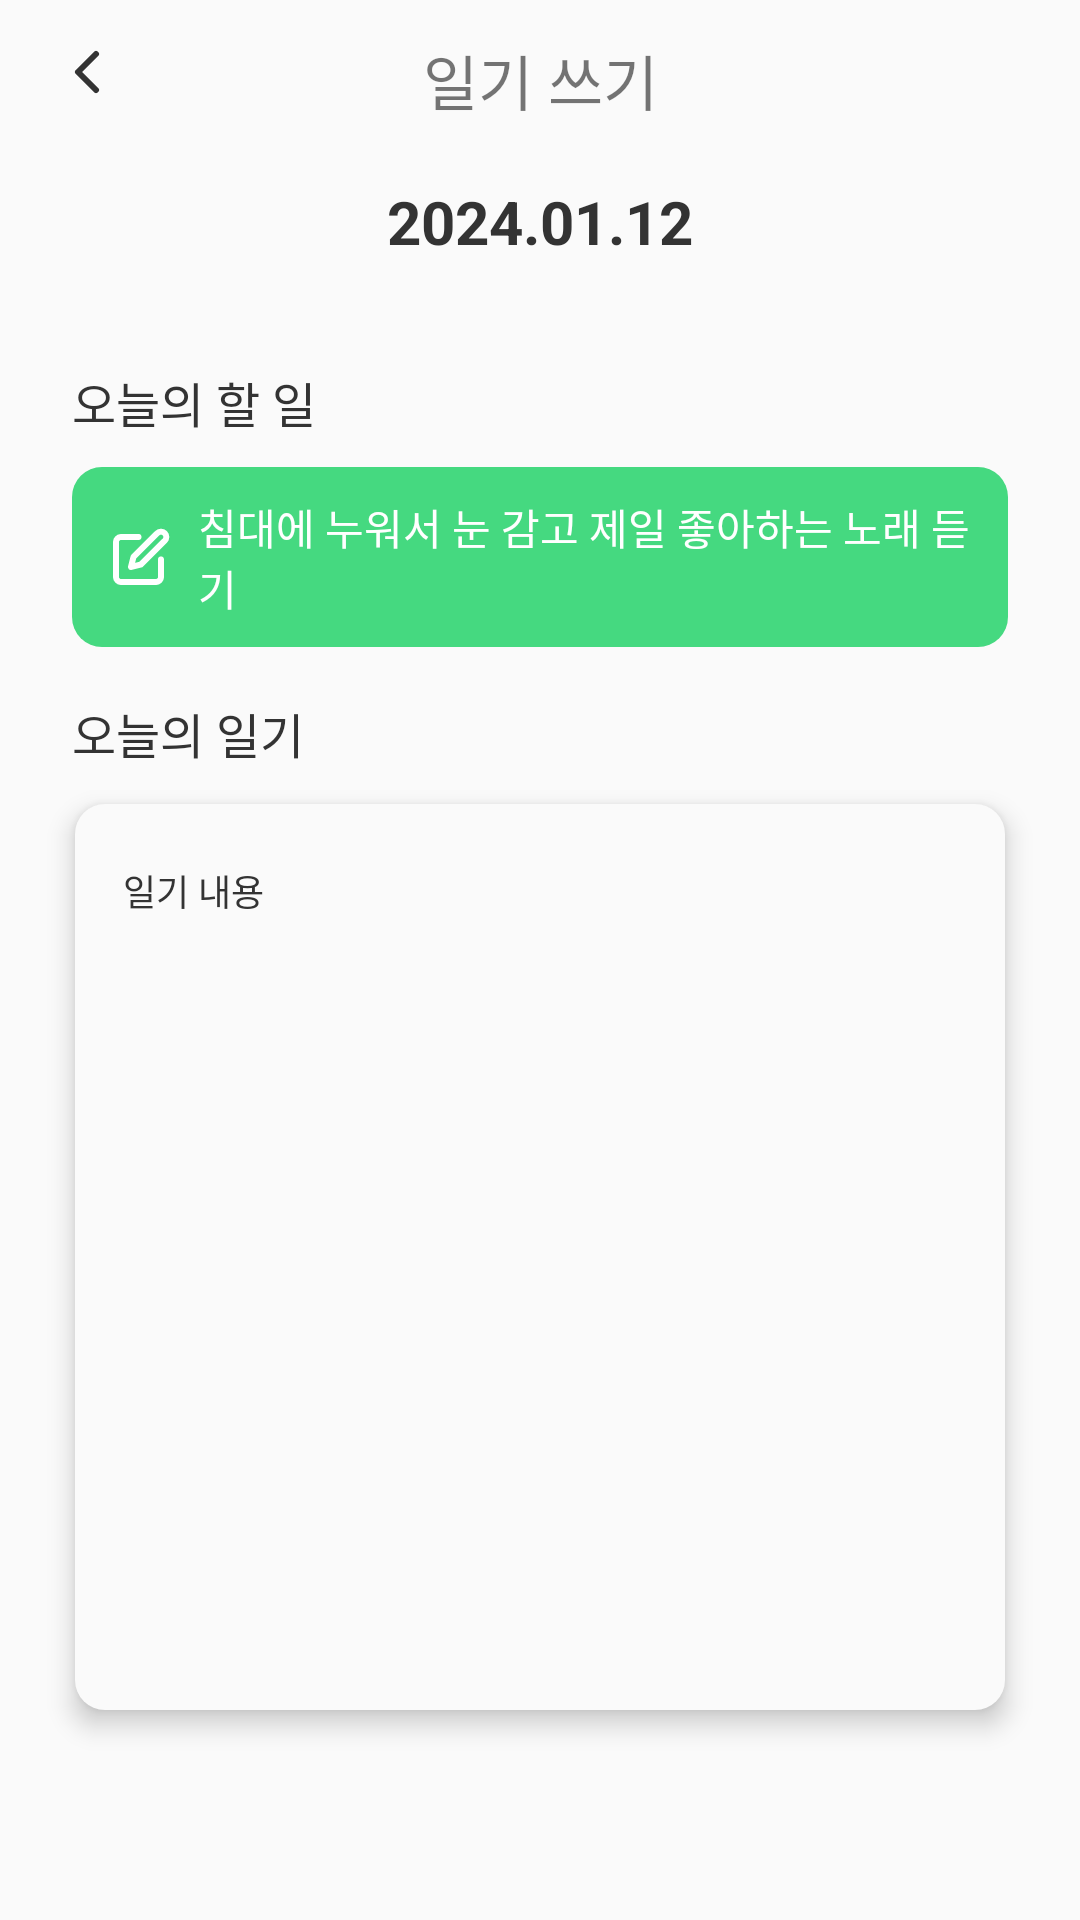

Locate icon controls on the screen. Image size 1080 × 1920, boxes as (left=x1, top=y1, right=x2, bottom=y2).
back: (left=75, top=51, right=99, bottom=93)
edit: (left=113, top=528, right=170, bottom=585)
